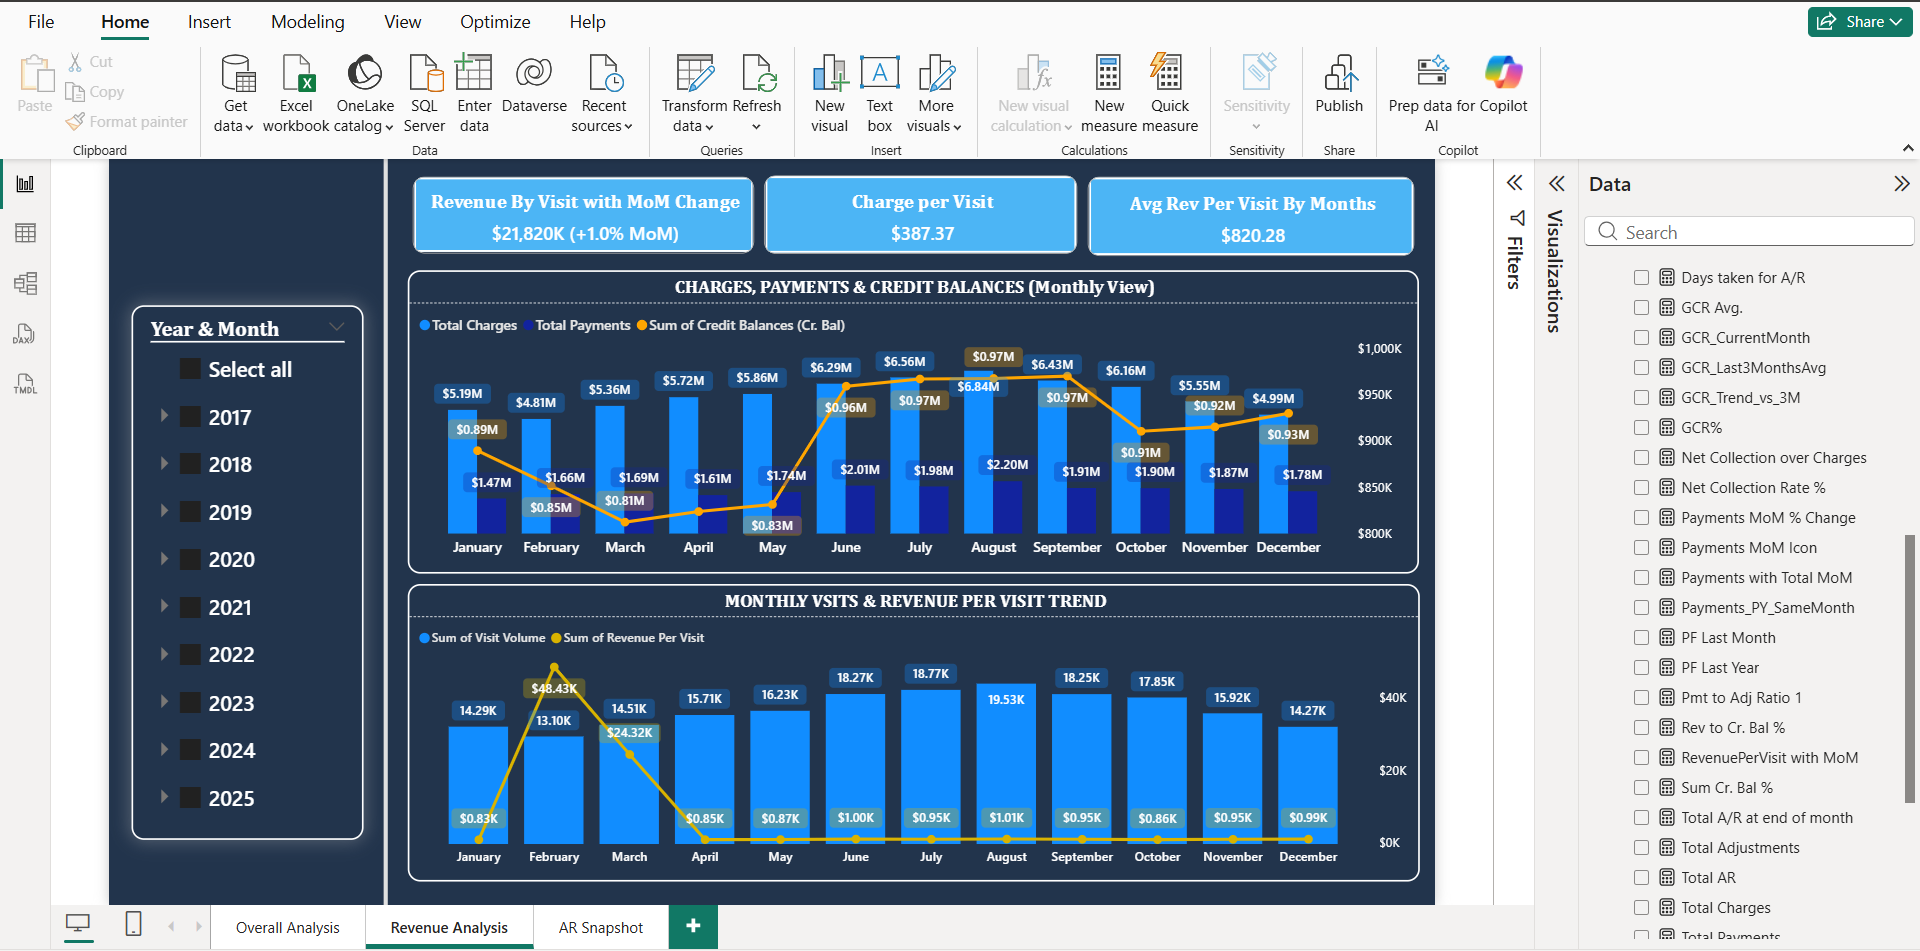

What the dashboard file says about the page in this screenshot:
{"tool":"powerbi","page":{"name":"Revenue Analysis","canvas":[1280,720],"ordinal":1},"visuals":[{"type":"slicer","fields":{"Values":["DateTable.Date.Variation.Date Hierarchy.Year","DateTable.Date.Variation.Date Hierarchy.Month"]},"box":[21.3,141.7,223.9,515.9],"z":0},{"type":"cardVisual","title":"TOTAL CHARGES","fields":{"Data":["CBayData.RevenuePerVisit with MoM"]},"box":[288.2,17.1,339.6,89.9],"z":1000},{"type":"cardVisual","title":"TOTAL CHARGES","fields":{"Data":["Avg(CBayData.Revenue Per Visit)"]},"box":[940,16.3,325.2,92.1],"z":2000},{"type":"cardVisual","title":"TOTAL CHARGES","fields":{"Data":["Median(CBayData.Charge per Visit)"]},"box":[627.9,15.7,312.5,91.3],"z":3000},{"type":"lineClusteredColumnComboChart","title":"CHARGES, PAYMENTS & CREDIT BALANCES (Monthly View)","fields":{"Category":["DateTable.Date.Variation.Date Hierarchy.Year","DateTable.Date.Variation.Date Hierarchy.Month"],"Y":["CBayData.Total Charges","CBayData.Total Payments"],"Y2":["Sum(CBayData.Credit Balances (Cr. Bal))"]},"box":[288.6,107.1,975.7,292.9],"z":4000},{"type":"lineClusteredColumnComboChart","title":"MONTHLY VSITS & REVENUE PER VISIT TREND","fields":{"Category":["DateTable.Date.Variation.Date Hierarchy.Year","DateTable.Date.Variation.Date Hierarchy.Month"],"Y":["Sum(CBayData.Visit Volume)"],"Y2":["Sum(CBayData.Revenue Per Visit)"]},"box":[288.6,410,977.1,287.1],"z":5000},{"type":"shape","box":[260.6,0,13,720],"z":6000}]}

Visuals, with their boxes on the page's 1280x720 design canvas (x1, y1, x2, y2). These are canvas units, not pixel positions in the 1920x951 screenshot, which may show the page scaled, cropped or inside an application window:
slicer - DateTable.Date.Variation.Date Hierarchy.Year x DateTable.Date.Variation.Date Hierarchy.Month: [x1=21, y1=142, x2=245, y2=658]
"TOTAL CHARGES" cardVisual: [x1=288, y1=17, x2=628, y2=107]
"TOTAL CHARGES" cardVisual: [x1=940, y1=16, x2=1265, y2=108]
"TOTAL CHARGES" cardVisual: [x1=628, y1=16, x2=940, y2=107]
"CHARGES, PAYMENTS & CREDIT BALANCES (Monthly View)" lineClusteredColumnComboChart: [x1=289, y1=107, x2=1264, y2=400]
"MONTHLY VSITS & REVENUE PER VISIT TREND" lineClusteredColumnComboChart: [x1=289, y1=410, x2=1266, y2=697]
shape: [x1=261, y1=0, x2=274, y2=720]
